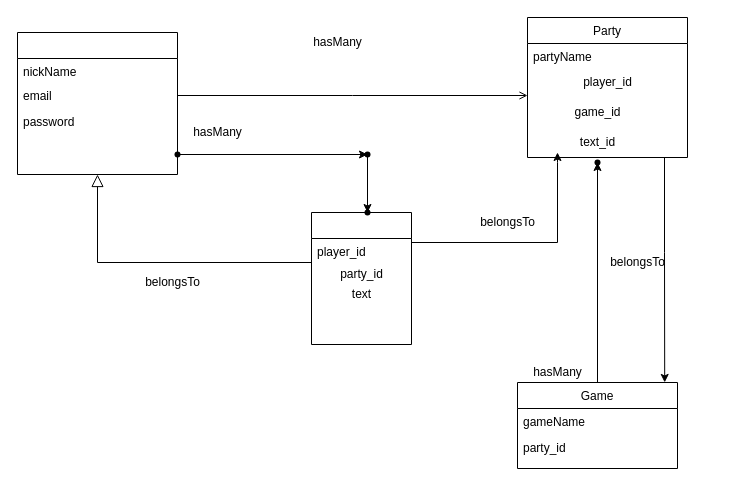
This 735x486 diagram has some shape labels left out. Here are the shapes that lost their labels. From the top down, the box of each, then its label:
(16, 32, 178, 174): Player
(310, 212, 412, 344): Message
